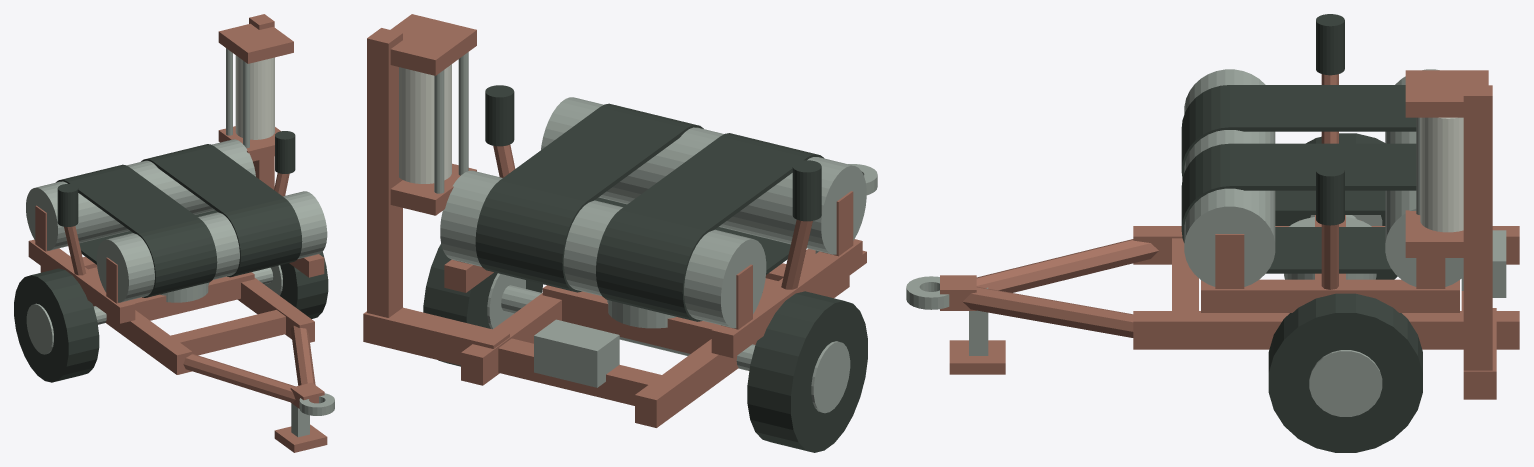
3 renders of one model, left to right at view 1: azimuth 30°, elevation 25°; view 2: azimuth 150°, elevation 25°; view 3: azimuth 270°, elevation 25°, orthographic. The views are drawn at different scales.
Visible parts, largest first — view 1: WholeClosedWideBeltLoop-1, WholeClosedWideBeltLoop1, WholeGroundedTyre-1, WholeBeltTableEndDrum-1, WholeBeltTableEndDrum1, WholeChassisCrossBeam-1, WholeOpaqueAnnularFilmRoll, WholeChassisSideBeam-1, WholeTableSideRail-1, WholeCentralPivotBridge, WholeDispenserBracketUpper, WholeConvergingDrawBeam-1 (+20 smaller); view 2: WholeClosedWideBeltLoop-1, WholeClosedWideBeltLoop1, WholeGroundedTyre-1, WholeBeltTableEndDrum1, WholeBeltTableEndDrum-1, WholeOffsetFilmDispenserMast, WholeOpaqueAnnularFilmRoll, WholeRearMastOutrigger, WholeChassisSideBeam-1, WholePlainRearControlHousing, WholeTableSideRail-1, WholeCentralPivotBridge (+18 smaller); view 3: WholeGroundedTyre1, WholeClosedWideBeltLoop1, WholeClosedWideBeltLoop-1, WholeBeltTableEndDrum-1, WholeOffsetFilmDispenserMast, WholeChassisSideBeam1, WholeTableSideRail1, WholeOpaqueAnnularFilmRoll, WholeConvergingDrawBeam-1, WholeConvergingDrawBeam1, WholeProudWheelHub1, WholeBeltTableEndDrum1 (+17 smaller).
Part boxes in pixels (x1,y1,x2,y2): WholeClosedWideBeltLoop-1: (56, 164, 217, 297); WholeClosedWideBeltLoop1: (141, 144, 302, 277); WholeGroundedTyre-1: (14, 268, 99, 382); WholeBeltTableEndDrum-1: (96, 191, 327, 302); WholeBeltTableEndDrum1: (26, 139, 255, 250); WholeChassisCrossBeam-1: (171, 310, 285, 355); WholeOpaqueAnnularFilmRoll: (235, 55, 274, 139); WholeChassisSideBeam-1: (40, 266, 192, 374); WholeTableSideRail-1: (28, 239, 135, 323); WholeCentralPivotBridge: (130, 272, 254, 320); WholeDispenserBracketUpper: (218, 23, 293, 63); WholeConvergingDrawBeam-1: (183, 353, 295, 402); WholeClosedWideBeltLoop-1: (596, 133, 824, 321); WholeClosedWideBeltLoop1: (475, 103, 703, 292); WholeGroundedTyre-1: (747, 291, 867, 452); WholeBeltTableEndDrum1: (440, 170, 766, 328); WholeBeltTableEndDrum-1: (541, 97, 866, 254); WholeOffsetFilmDispenserMast: (367, 28, 402, 317); WholeOpaqueAnnularFilmRoll: (399, 64, 451, 183); WholeRearMastOutrigger: (363, 307, 509, 365); WholeChassisSideBeam-1: (635, 273, 849, 427); WholePlainRearControlHousing: (534, 319, 619, 387); WholeTableSideRail-1: (711, 239, 862, 358); WholeCentralPivotBridge: (542, 285, 718, 353); WholeGroundedTyre1: (1268, 293, 1422, 452); WholeClosedWideBeltLoop1: (1181, 143, 1416, 273); WholeClosedWideBeltLoop-1: (1181, 85, 1416, 214); WholeBeltTableEndDrum-1: (1184, 69, 1275, 286); WholeOffsetFilmDispenserMast: (1463, 85, 1492, 370); WholeChassisSideBeam1: (1133, 311, 1519, 349); WholeTableSideRail1: (1201, 279, 1459, 312); WholeOpaqueAnnularFilmRoll: (1420, 117, 1463, 232); WholeConvergingDrawBeam-1: (976, 239, 1158, 292); WholeConvergingDrawBeam1: (963, 286, 1133, 337); WholeProudWheelHub1: (1309, 350, 1382, 416); WholeBeltTableEndDrum1: (1385, 69, 1463, 286).
Bounding box in the file's own units: 2.36 × 2.1 × 3.17.
